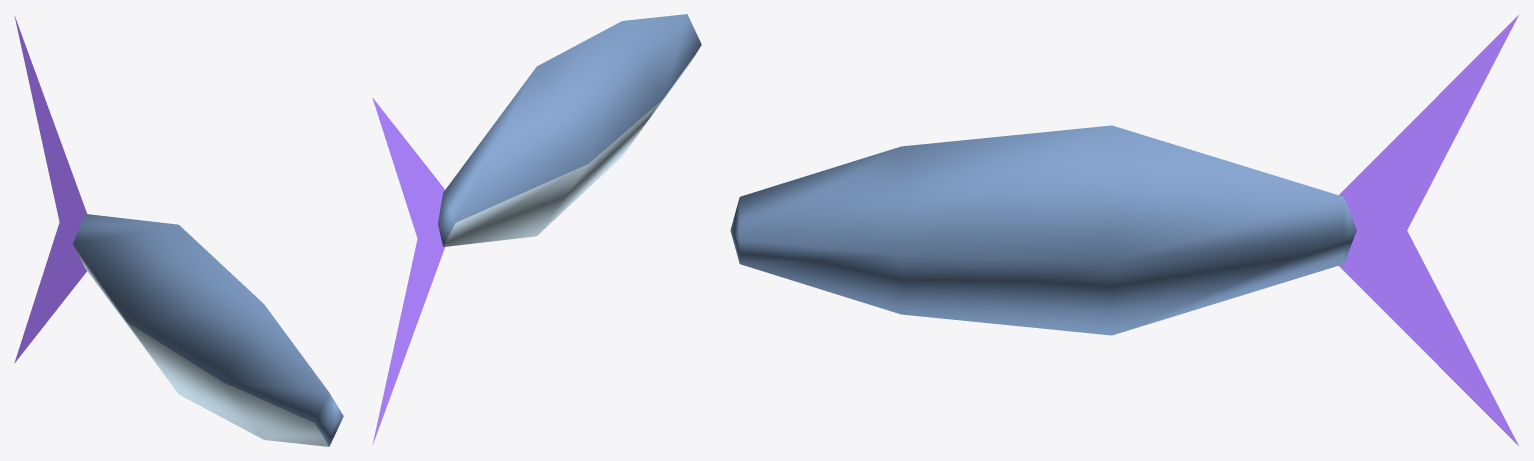
Rendered from fish_b_far.glb.
3 views of the same model, side by side, from view 1: azimuth 30°, elevation 25°; view 2: azimuth 150°, elevation 25°; view 3: azimuth 270°, elevation 25° (orthographic). The views are drawn at different scales.
Parts seen in each view (by area): view 1: fish_b_far; view 2: fish_b_far; view 3: fish_b_far.
Part boxes in pixels (x1,y1,x2,y2): fish_b_far: [14, 15, 343, 446]; fish_b_far: [372, 14, 701, 445]; fish_b_far: [730, 15, 1518, 445].
Size of the model in its own units: 0.0546 by 0.1768 by 0.292.
